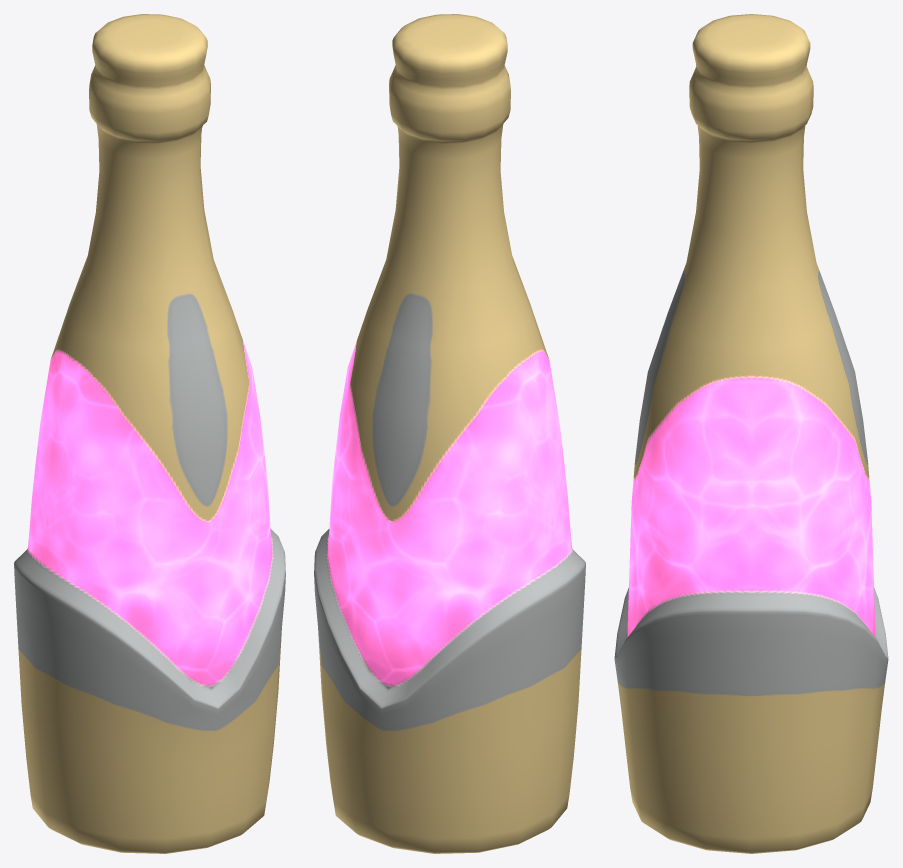
Rendered from BarBottle03_1.FBX.
3 renders of one model, left to right at view 1: azimuth 30°, elevation 25°; view 2: azimuth 150°, elevation 25°; view 3: azimuth 270°, elevation 25°, orthographic.
Visible parts, largest first — view 1: BarBottle03_1; view 2: BarBottle03_1; view 3: BarBottle03_1.
Part boxes in pixels (box(x1,y1,x2,y2)): BarBottle03_1: box(14, 14, 285, 853); BarBottle03_1: box(314, 14, 585, 853); BarBottle03_1: box(614, 14, 888, 853).
Size of what is drawn, in the model's own units: 0.1078 by 0.3393 by 0.1089.
